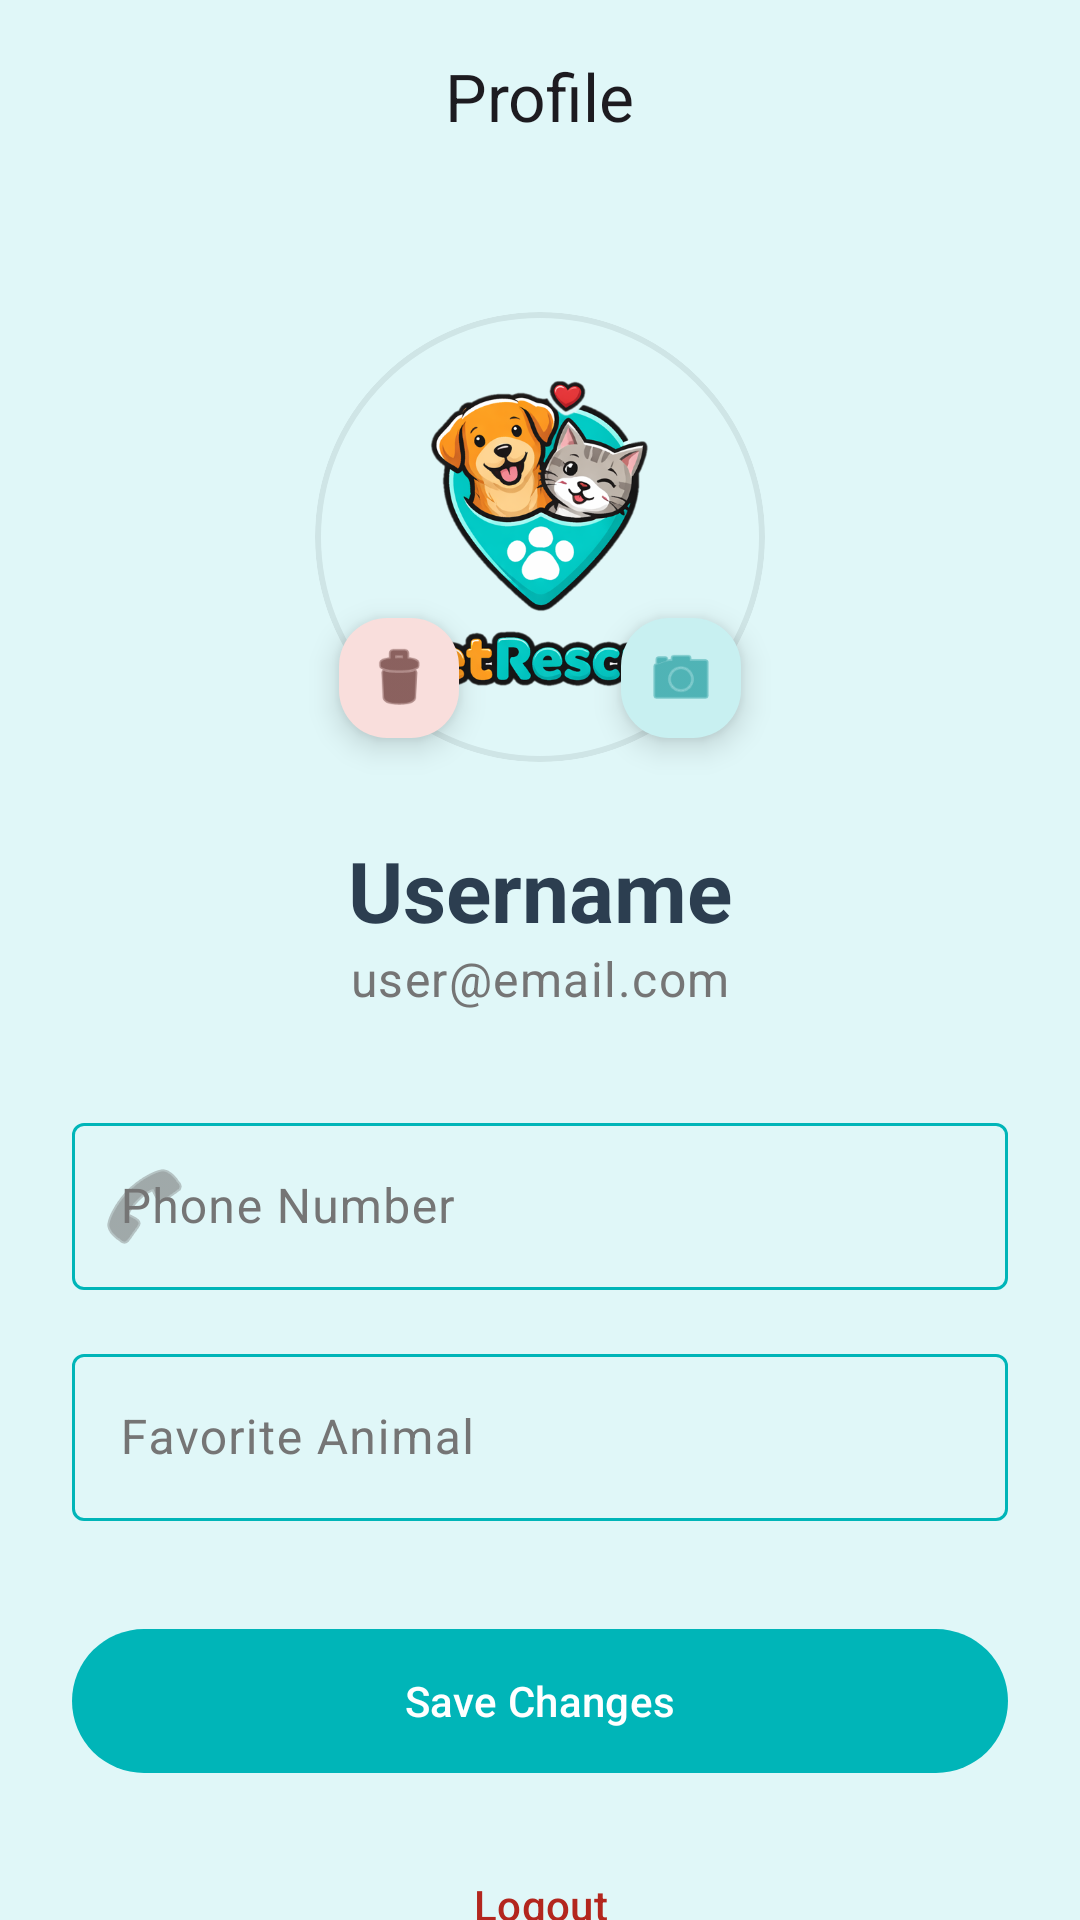

Named icons in this screenshot (1080x1920) and their bounding boxes, (left=x1, top=y1, right=x2, bottom=y2):
Delete profile image: (left=339, top=618, right=471, bottom=741)
Edit profile image: (left=609, top=606, right=753, bottom=750)
